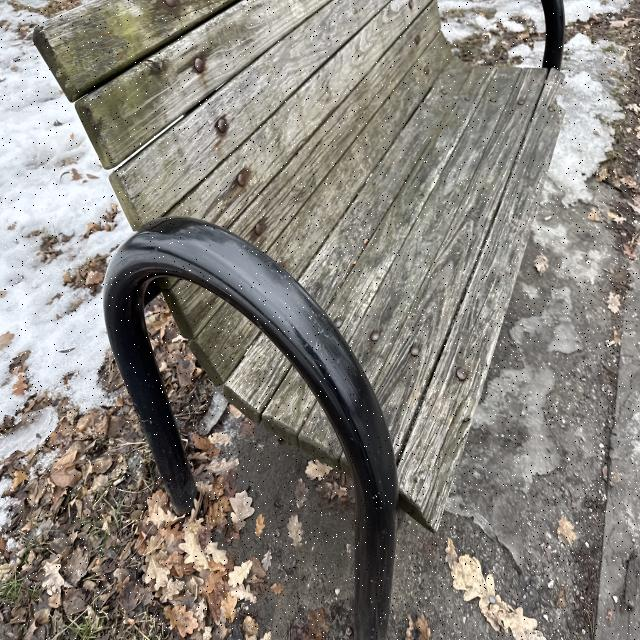Bench: (50, 0, 502, 586)
